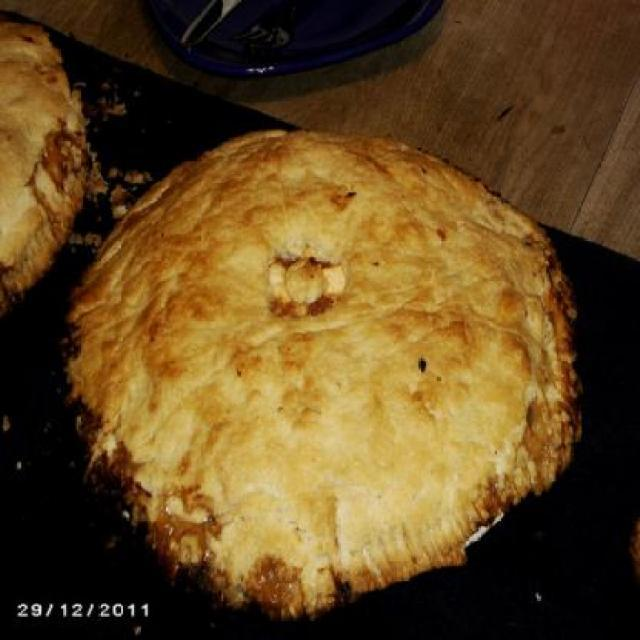Apple: (73, 133, 582, 618)
